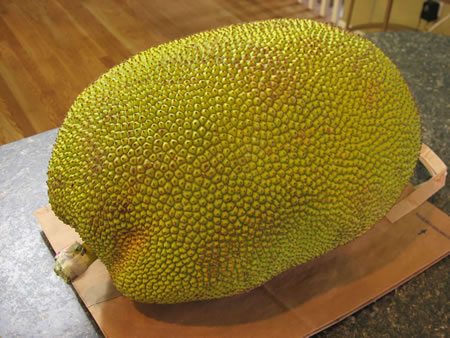jackfruit: (45, 17, 423, 306)
